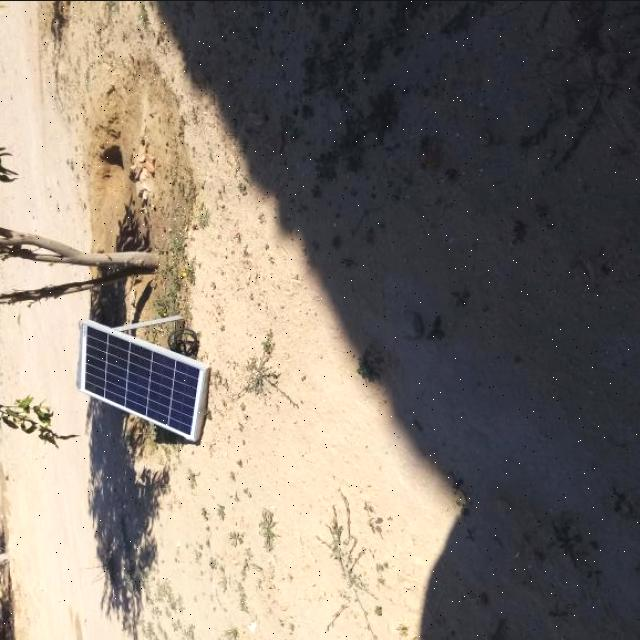Normal Solar Panel: (79, 321, 207, 440)
